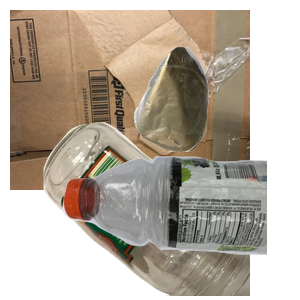cardboard: (10, 10, 250, 190)
glass: (41, 120, 281, 300)
plastic: (60, 152, 300, 300)
trash: (131, 44, 300, 189)
